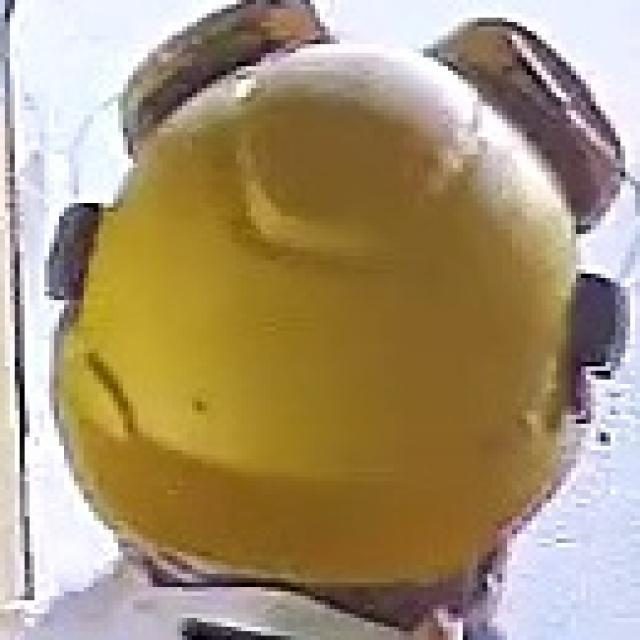yellow helmet: (50, 2, 640, 582)
